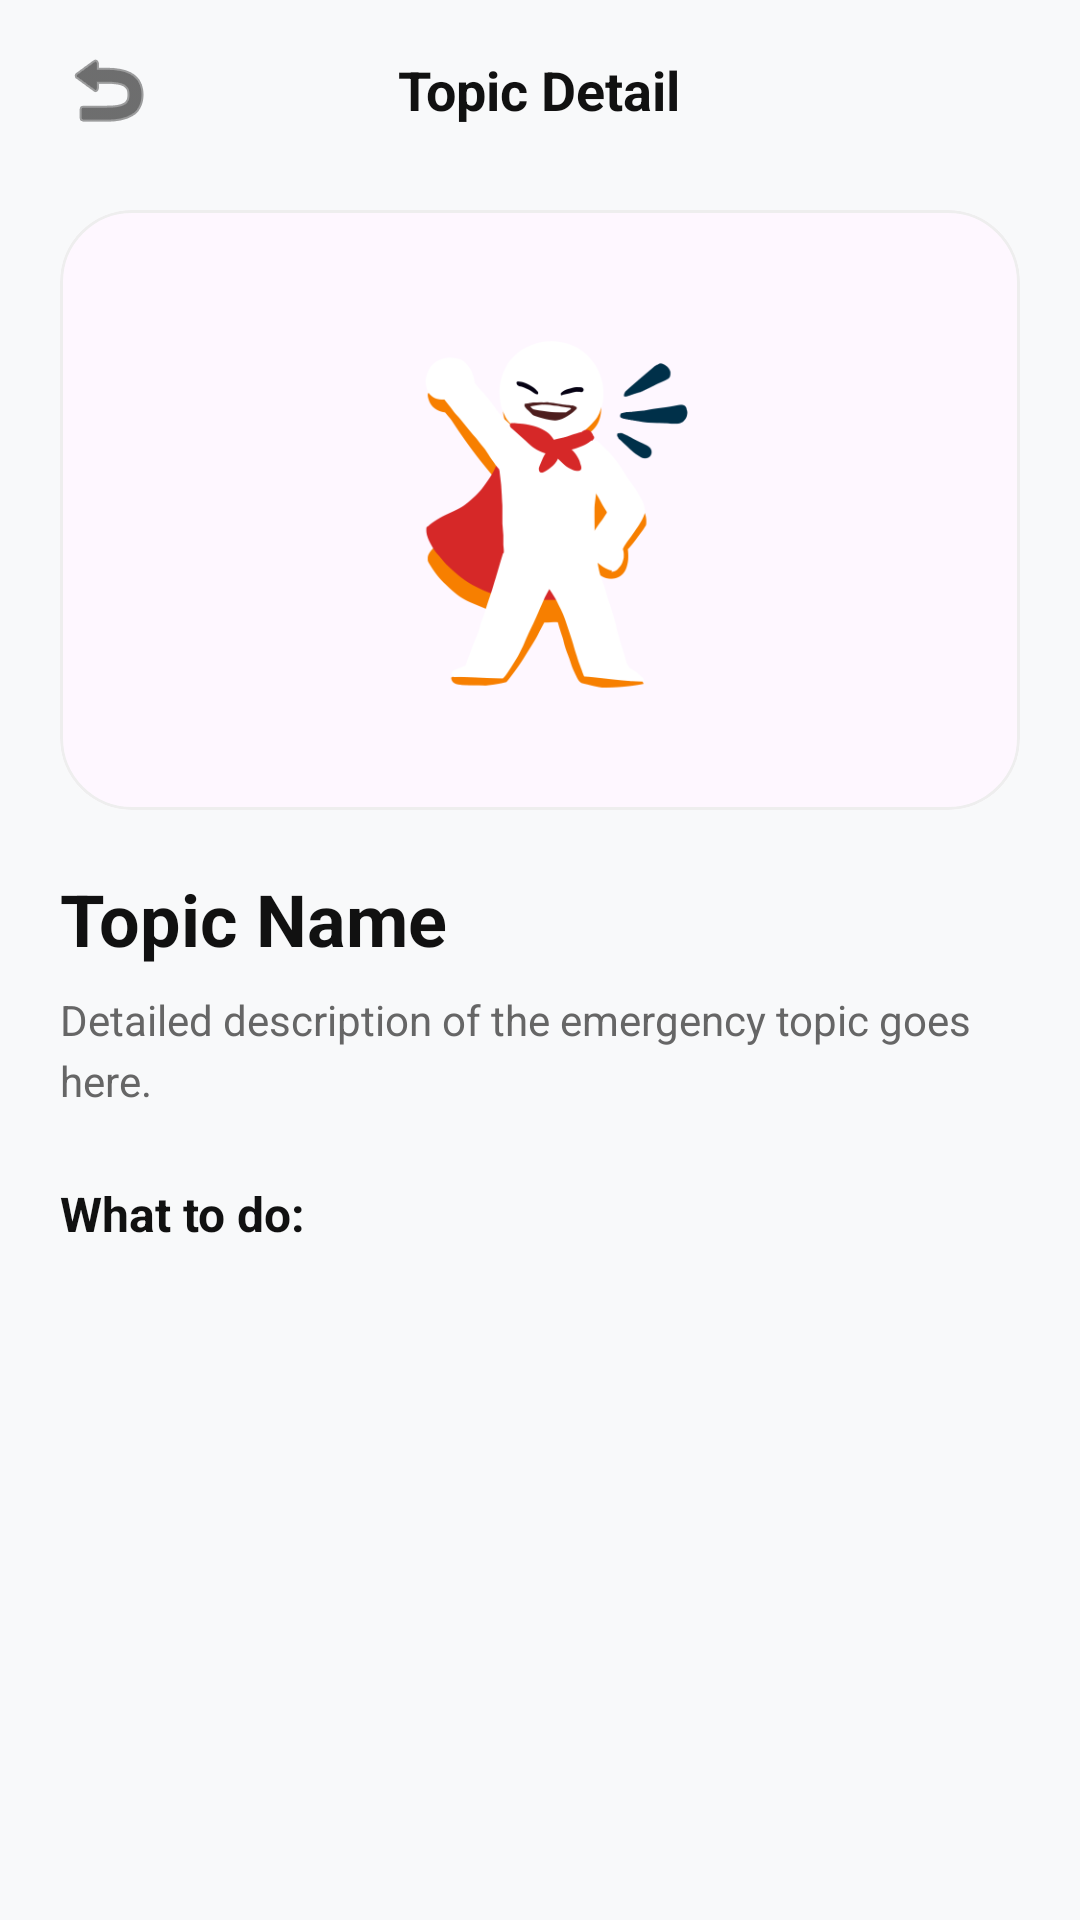

Named icons in this screenshot (1080w x 1920h) and their bounding boxes, bbox(x1, y1, x2, y2):
Back: bbox(75, 59, 144, 122)
